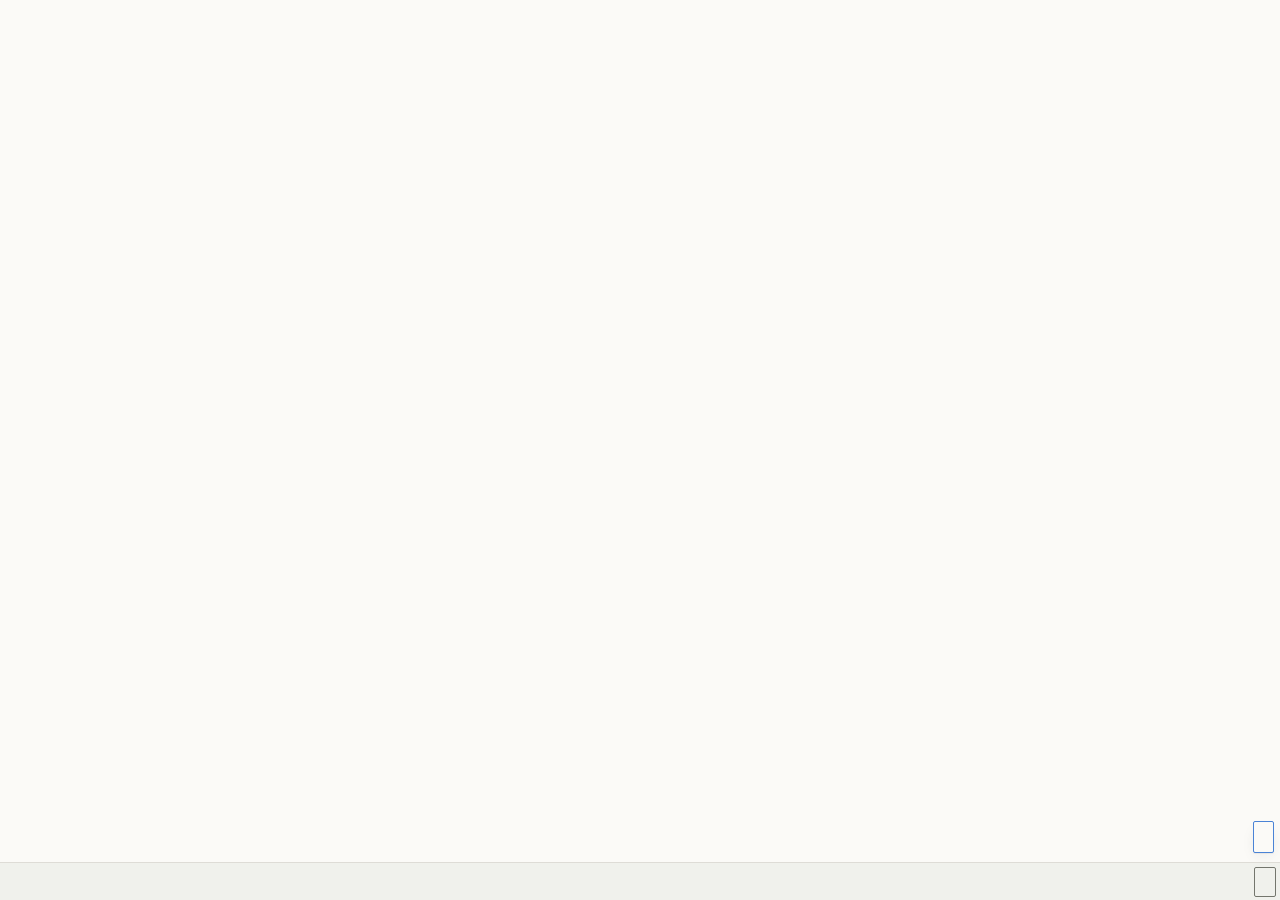
Test: mountLens › replays stop by stop under reduced motion, with Pause while it runs
The width and height of the screenshot is (1280, 900).
Later steps or results of the test are not shown.
(page scrolled)
Click the button with class "lens-play" at (1265, 882), box [1254,866,1276,896]
Wait 1400 ms
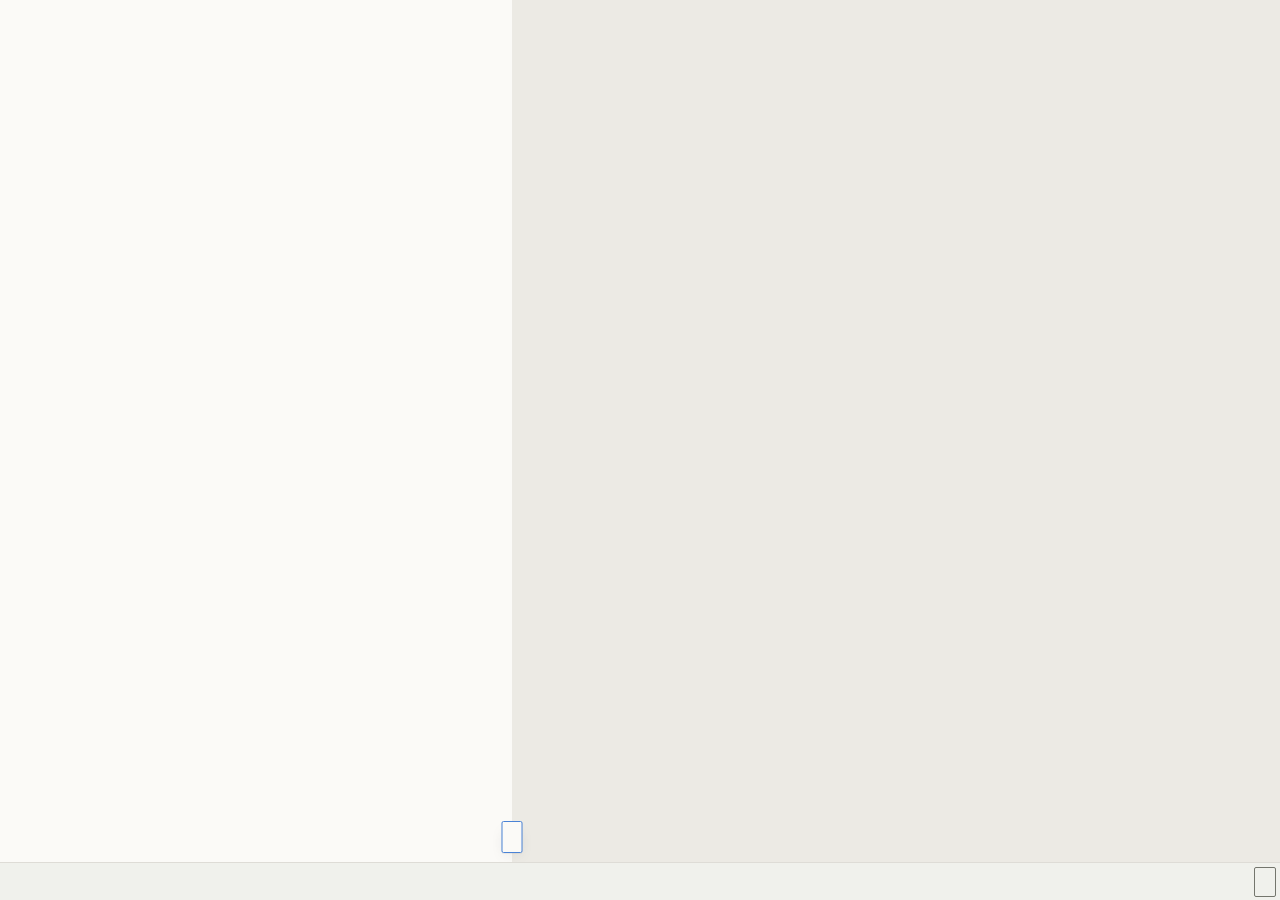
Check: the slider with class "lens-handle" has attribute aria-valuenow="2", box [502,821,522,853]
Click the button with class "lens-play" at (1265, 882), box [1254,866,1276,896]
Check: the slider with class "lens-handle" has attribute aria-valuenow="2", box [502,821,522,853]
Click the button with class "lens-play" at (1265, 882), box [1254,866,1276,896]
Wait 2150 ms
(page scrolled)
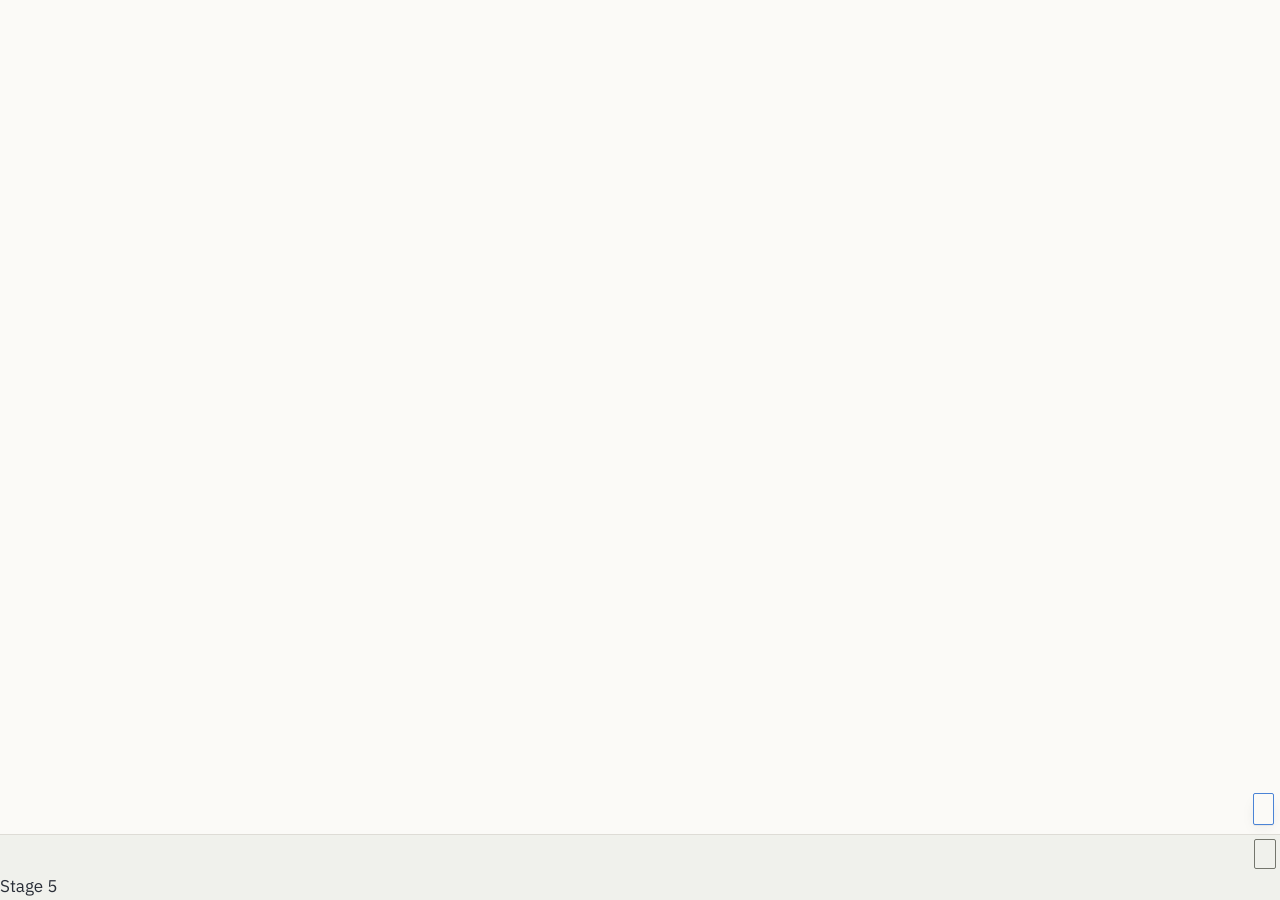
Check: the text with class "lens-live" reads "Stage 5", box [0,875,57,897]
